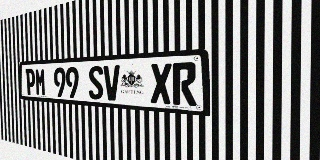9: (66, 67, 79, 98), (54, 67, 66, 97)
M: (35, 68, 46, 96)
P: (25, 68, 36, 95)
R: (172, 62, 197, 106)
S: (88, 66, 104, 100)
V: (103, 65, 120, 101)
X: (150, 63, 172, 104)
